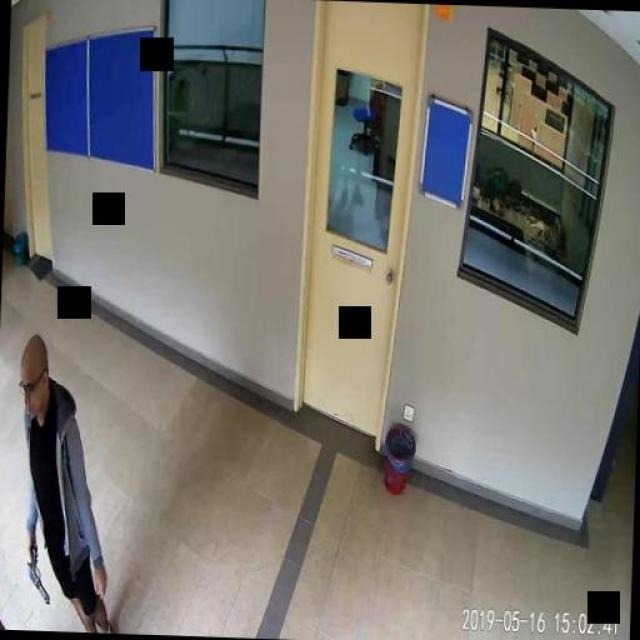gun: (22, 541, 48, 600)
